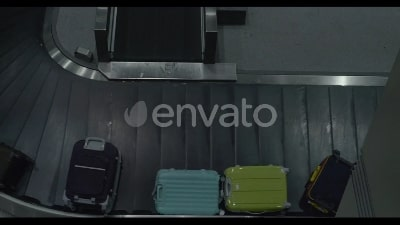baggage: (61, 139, 124, 214), (303, 147, 356, 219), (221, 163, 294, 213), (152, 168, 220, 216)
